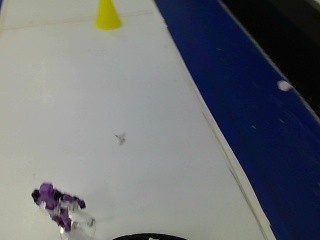cone: (92, 1, 121, 33)
pedestrian: (22, 173, 91, 237)
